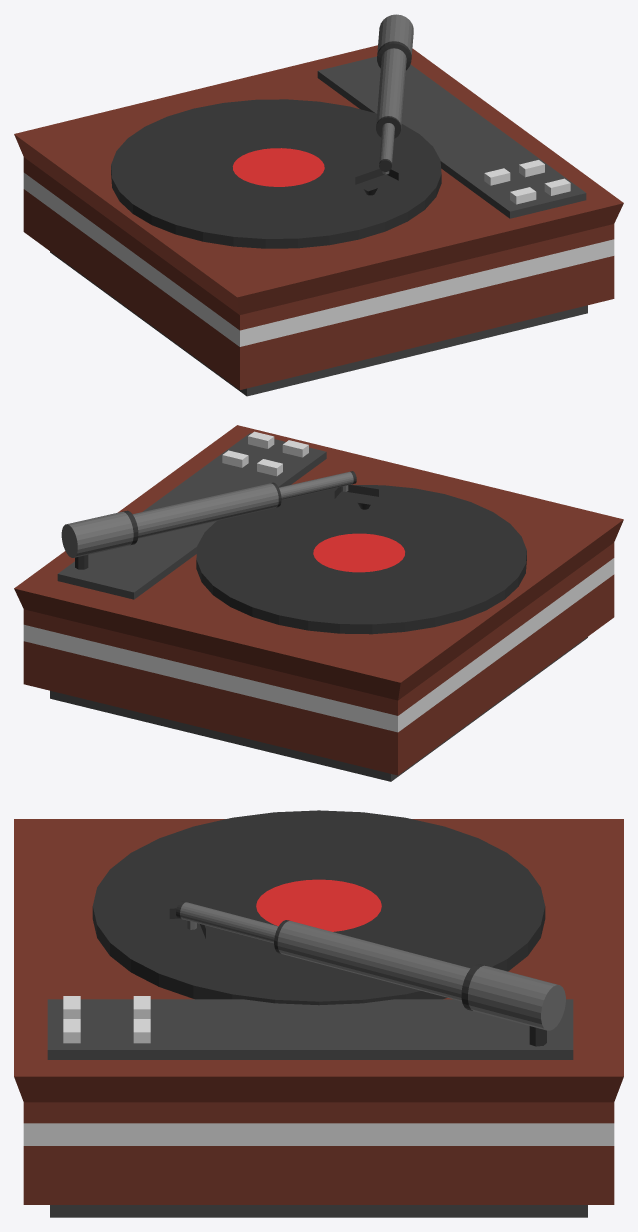
The model's file is low_poly_record_player.glb.
3 renders of one model, top to bottom at view 1: azimuth 30°, elevation 25°; view 2: azimuth 150°, elevation 25°; view 3: azimuth 270°, elevation 25°, orthographic. The views are drawn at different scales.
Parts seen in each view (by area): view 1: Cube.002; view 2: Cube.002; view 3: Cube.002.
Boxes of the visible parts, <box> form: Cube.002: <box>14,14,623,396</box>; Cube.002: <box>14,425,623,781</box>; Cube.002: <box>14,810,623,1217</box>.
Size of the model in its own units: 2.07 by 0.8458 by 2.07.
